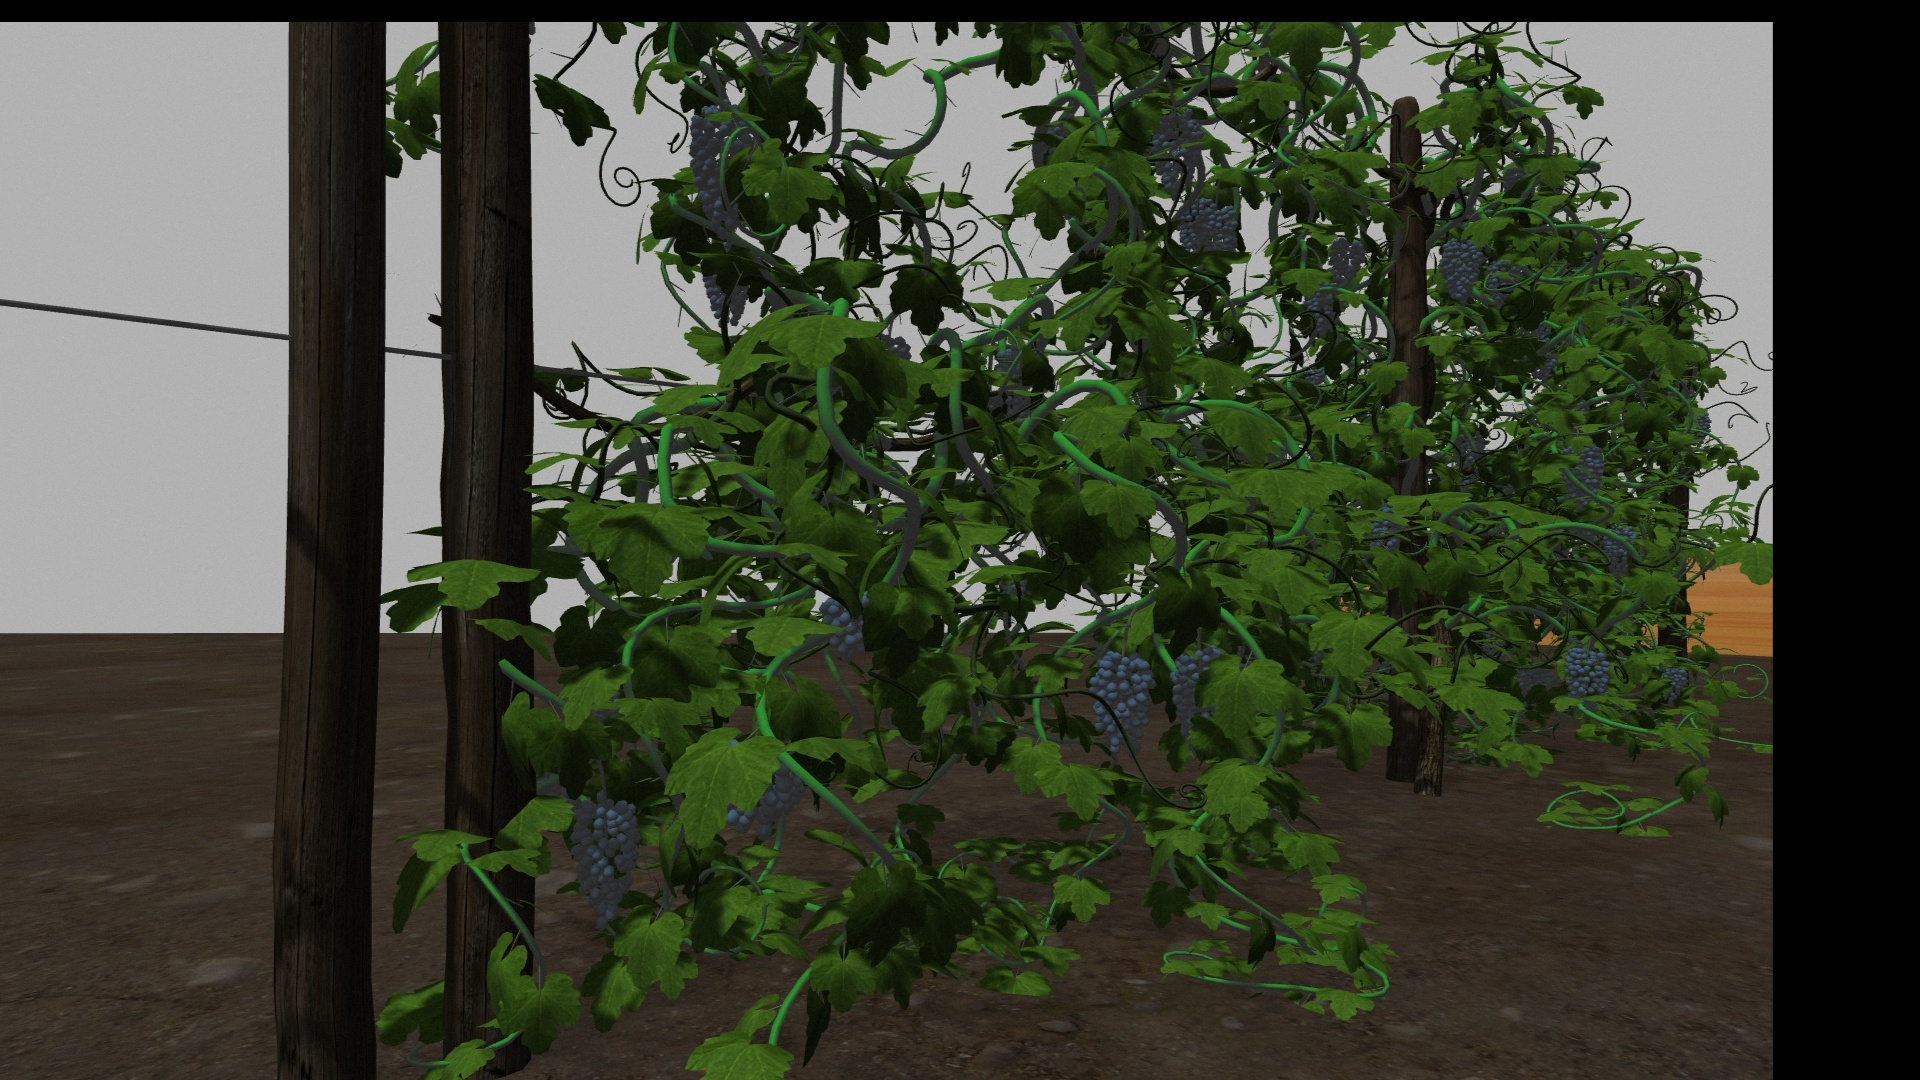grape: (562, 796, 637, 931), (690, 105, 750, 222), (1091, 651, 1155, 754), (723, 764, 803, 843), (1168, 646, 1218, 736), (1150, 111, 1201, 191), (818, 591, 870, 659), (1437, 237, 1484, 302), (1559, 444, 1604, 506), (1560, 644, 1609, 698), (1325, 236, 1365, 286), (1178, 195, 1209, 255), (1604, 522, 1636, 578), (1205, 200, 1237, 255), (1519, 657, 1553, 698), (1305, 289, 1335, 336), (1660, 666, 1688, 700)
